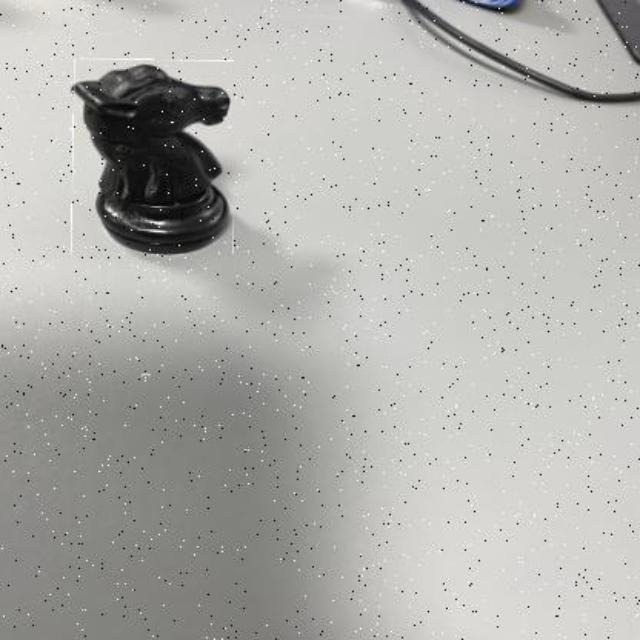black-knight: (72, 60, 234, 256)
